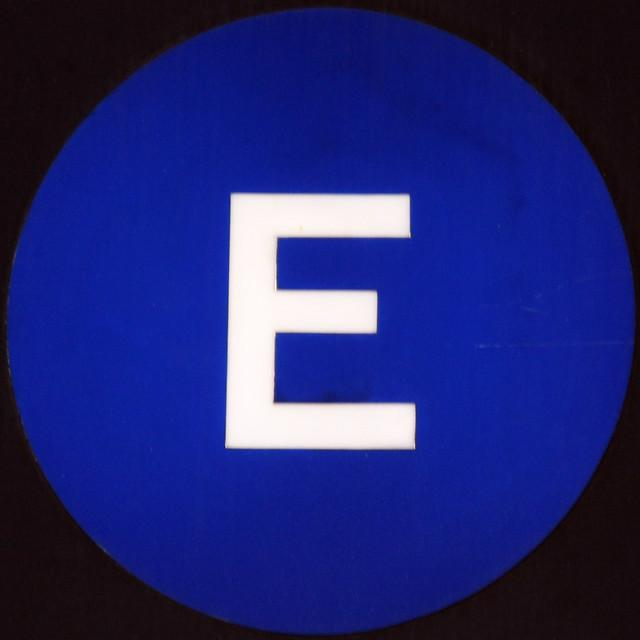E: (208, 164, 437, 481)
